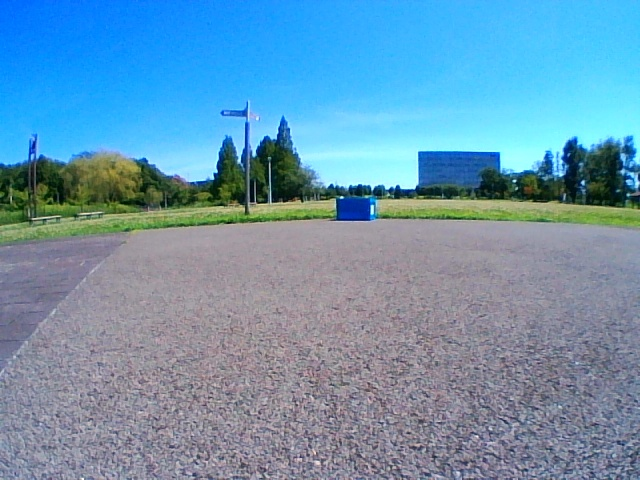blue_box: (337, 197, 374, 221)
tag: (370, 205, 373, 215)
